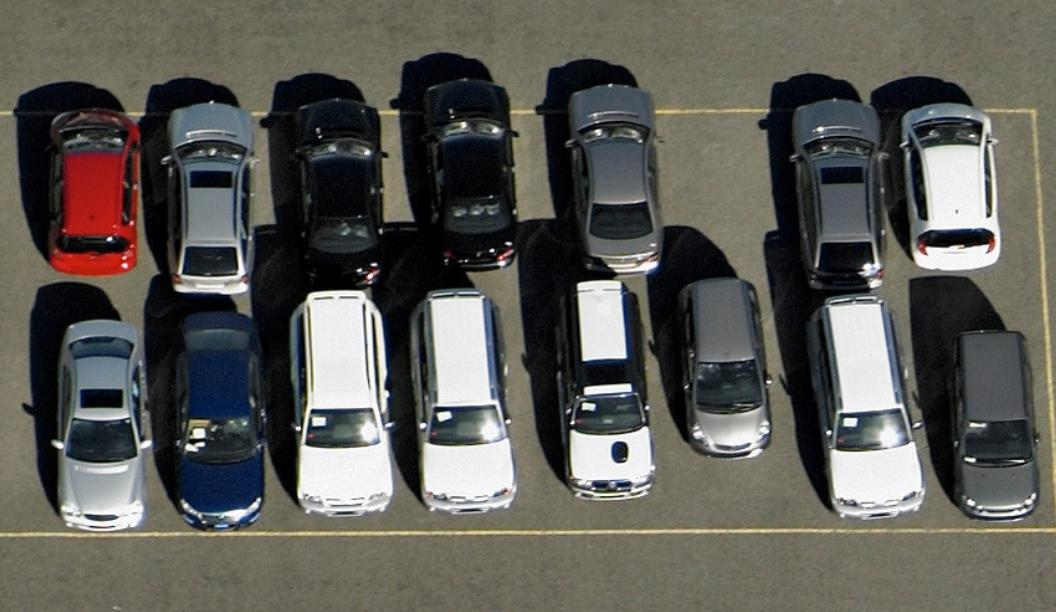car: (800, 295, 927, 525), (281, 288, 399, 520), (407, 286, 522, 518), (553, 280, 659, 503), (169, 308, 267, 536), (52, 316, 152, 532), (417, 73, 522, 276), (157, 98, 265, 293), (782, 96, 887, 291), (566, 79, 666, 278), (897, 98, 1005, 277), (292, 99, 392, 288), (677, 273, 775, 465), (947, 325, 1041, 525), (42, 100, 145, 281)
